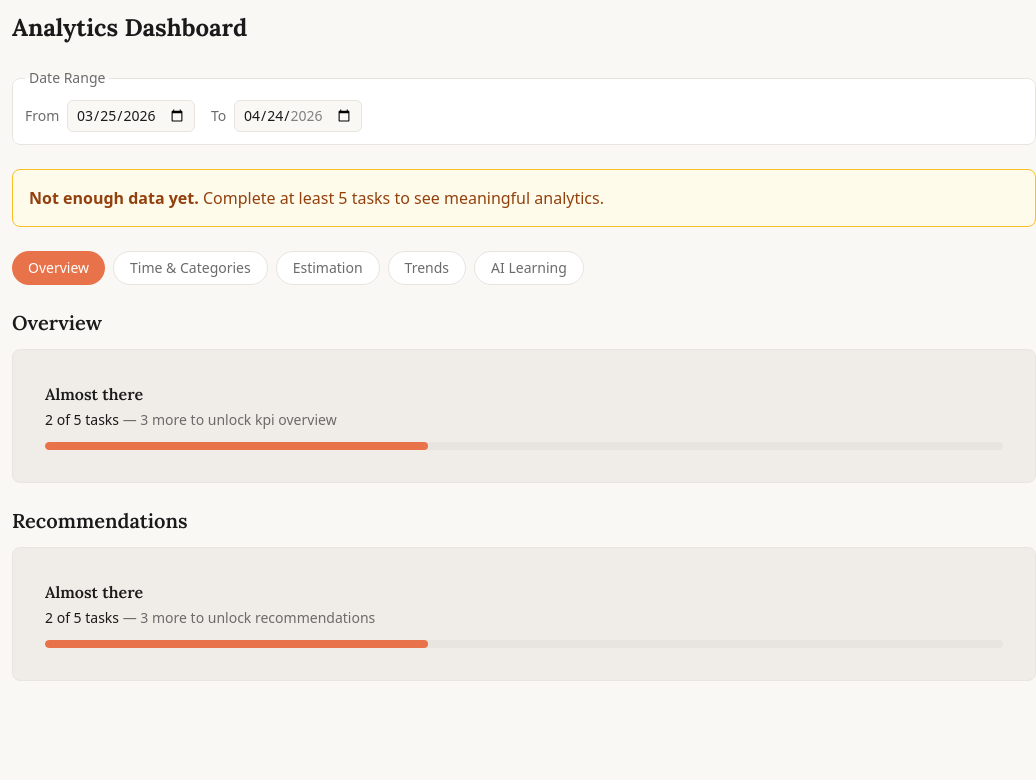
Test: AnalyticsDashboard › low-data states › shows Weekly Trends low-data state when weeksOfData < 2
The width and height of the screenshot is (1036, 780).
Weekly Trends is on the "Trends" tab
Click the button "Trends": x=427, y=268 388,251 -> 466,285
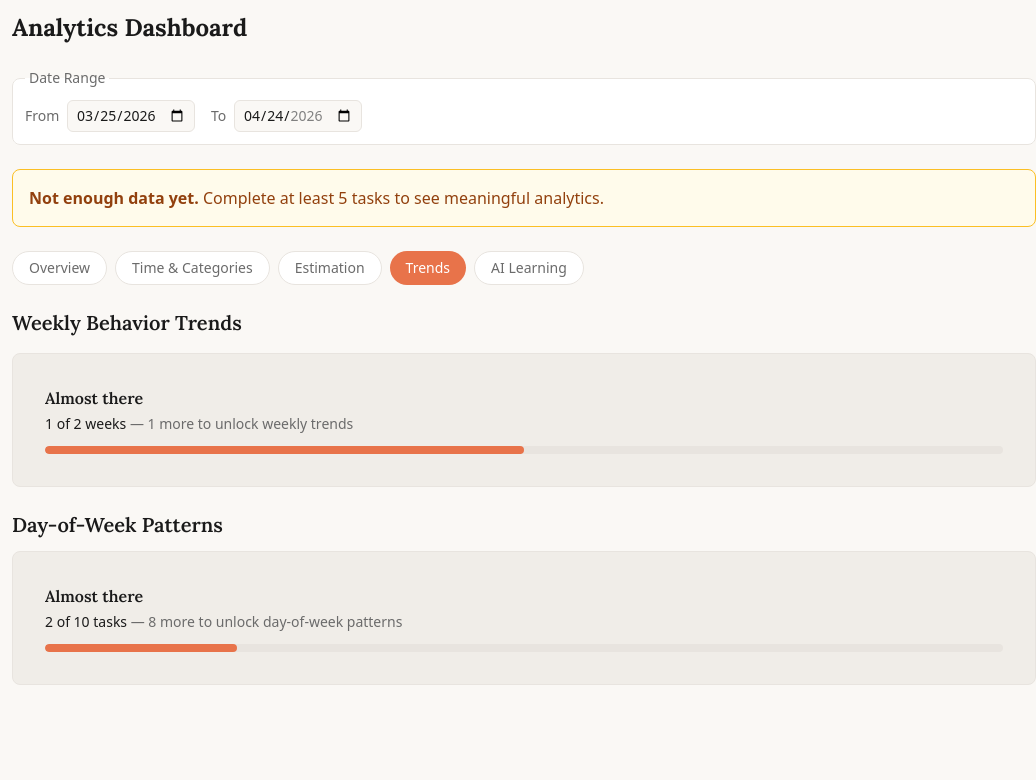
Expected: the element "Weekly Behavior Trends" is shown, 12,309 -> 1035,487
Expected: the text "1 of 2 weeks — 1 more to unlock weekly trends" is shown, 45,414 -> 353,433
